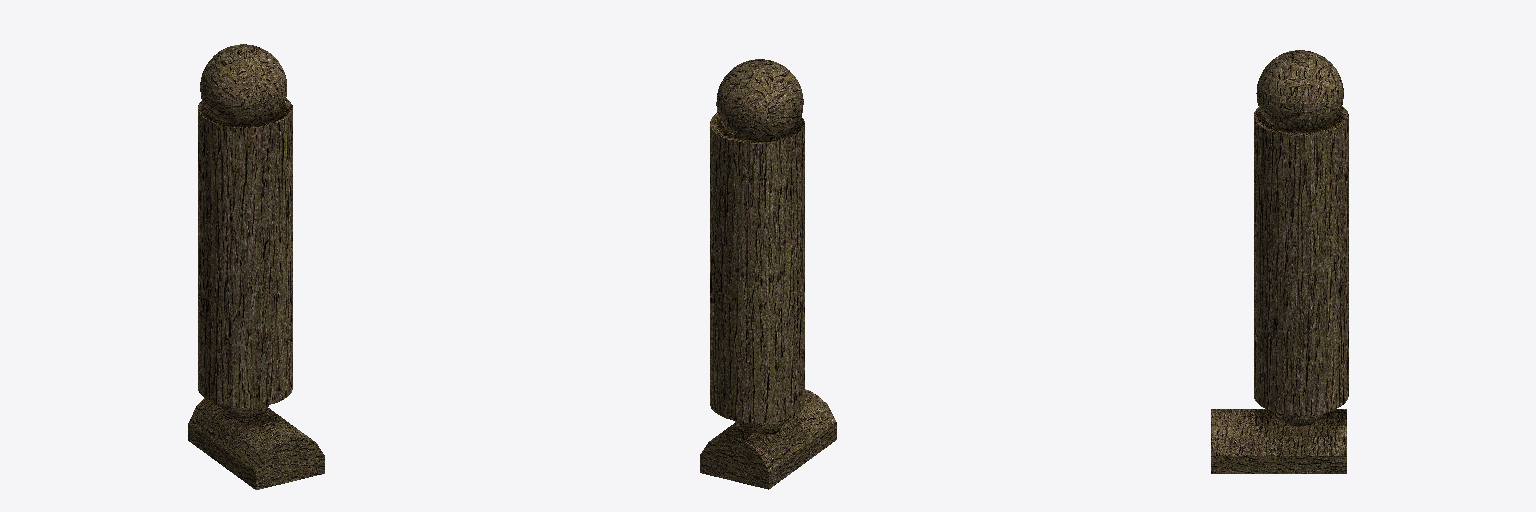
3 views of the same model, side by side, from view 1: azimuth 30°, elevation 25°; view 2: azimuth 150°, elevation 25°; view 3: azimuth 270°, elevation 25° (orthographic).
Parts seen in each view (by area): view 1: Limb1_Cylinder.001, Cube_Cube.001, Sphere; view 2: Limb1_Cylinder.001, Cube_Cube.001, Sphere; view 3: Limb1_Cylinder.001, Cube_Cube.001, Sphere.
Part boxes in pixels (x1,y1,x2,y2): Limb1_Cylinder.001: (198, 98, 292, 407); Cube_Cube.001: (188, 398, 324, 489); Sphere: (200, 44, 286, 124); Limb1_Cylinder.001: (710, 113, 804, 422); Cube_Cube.001: (700, 389, 836, 489); Sphere: (716, 59, 803, 138); Limb1_Cylinder.001: (1254, 106, 1348, 415); Cube_Cube.001: (1211, 409, 1346, 473); Sphere: (1256, 50, 1343, 129).
Size of the model in its own units: 0.1977 by 0.9211 by 0.286.
3 materials, 3 textured.